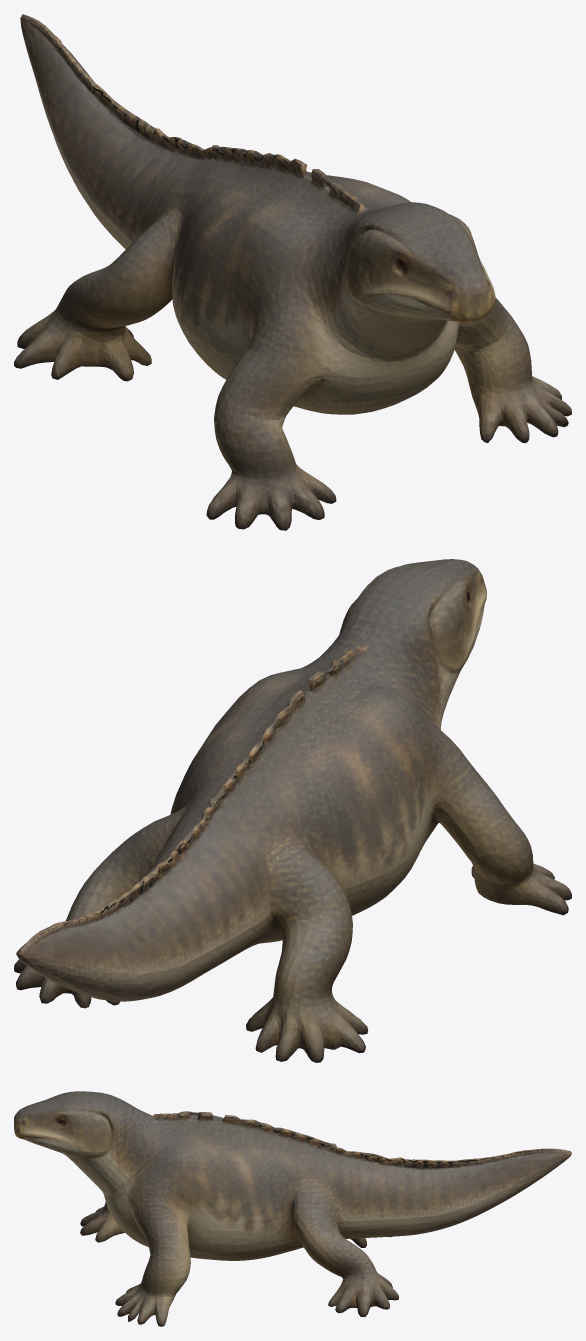
The picture shows the model from 3 angles, top to bottom: view 1: azimuth 30°, elevation 25°; view 2: azimuth 150°, elevation 25°; view 3: azimuth 270°, elevation 25°; orthographic projection. The views are drawn at different scales.
Visible parts, largest first — view 1: world; view 2: world; view 3: world.
Boxes of the visible parts, left/top/right/bottom form: world: left=14, top=14, right=571, bottom=530; world: left=14, top=559, right=571, bottom=1062; world: left=14, top=1091, right=571, bottom=1326.
Bounding box in the file's own units: 0.9825 × 0.6754 × 2.
Materials: 1 (1 with a texture image).
